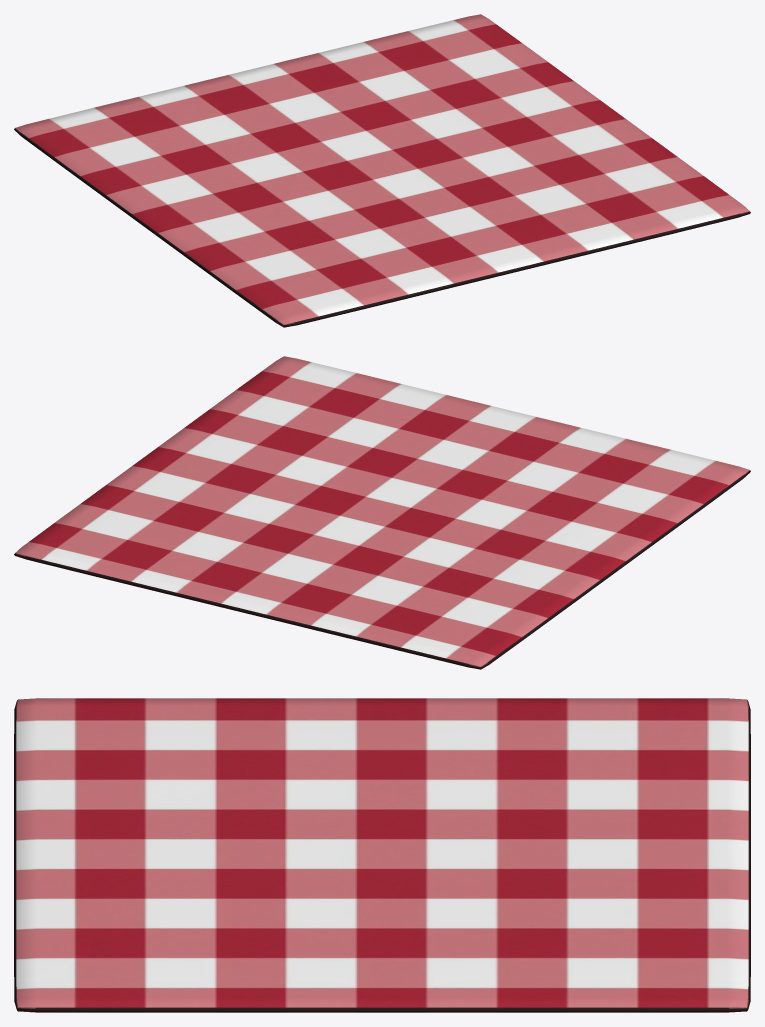
The model's file is picnicBlanket.fbx.
3 renders of one model, top to bottom at view 1: azimuth 30°, elevation 25°; view 2: azimuth 150°, elevation 25°; view 3: azimuth 270°, elevation 25°, orthographic. The views are drawn at different scales.
Parts seen in each view (by area): view 1: picnicBlanket; view 2: picnicBlanket; view 3: picnicBlanket.
Part boxes in pixels (box(x1,y1,x2,y2)): picnicBlanket: box(14, 14, 750, 327); picnicBlanket: box(14, 356, 750, 669); picnicBlanket: box(14, 698, 750, 1012).
Bounding box in the file's own units: 1197 × 13.67 × 1197.
Materials: 1 (1 with a texture image).
